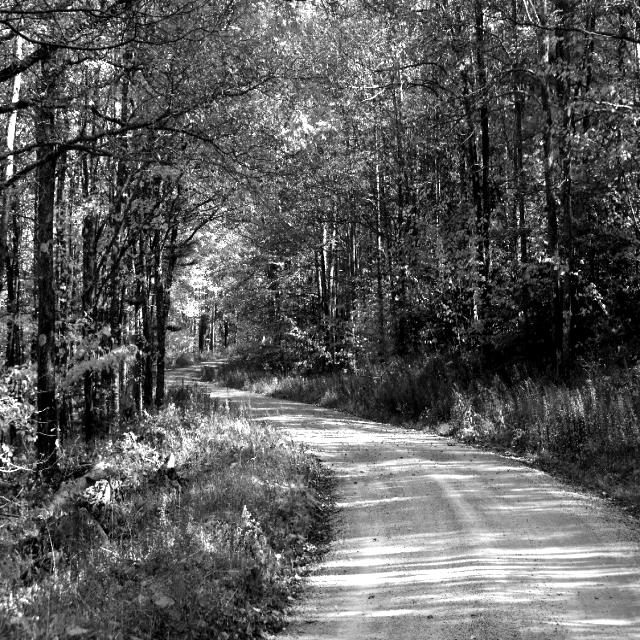cleat: (77, 328, 640, 640), (70, 328, 77, 329)
